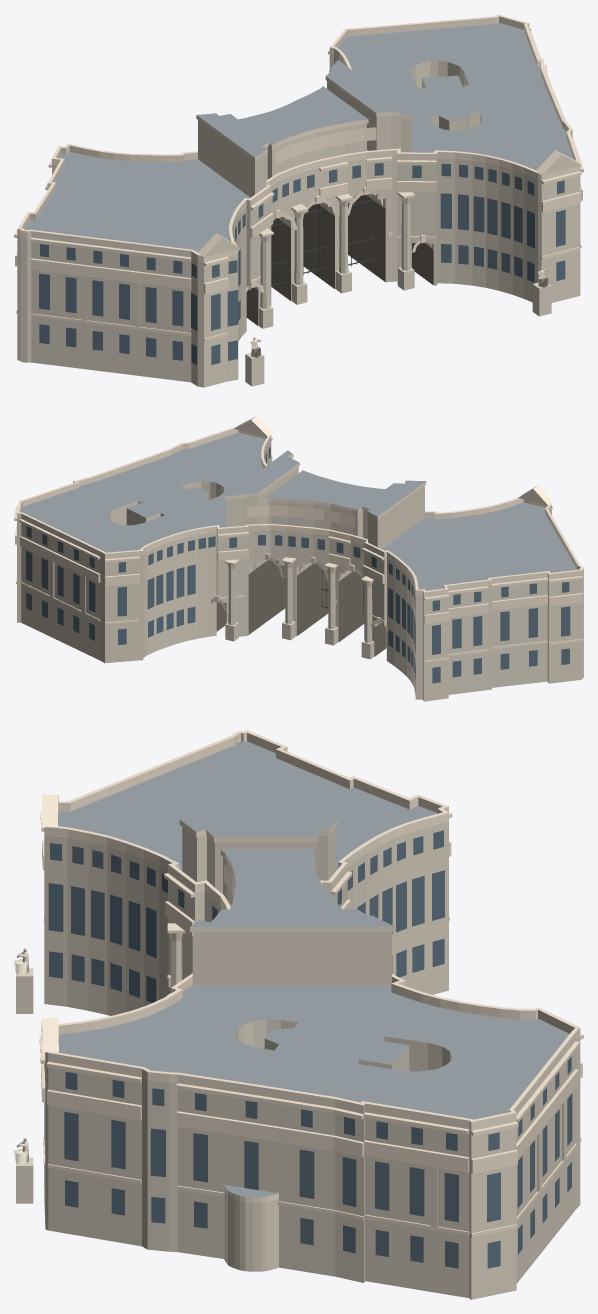
File: london-admiralty-arch.glb
3 views of the same model, one above another, from view 1: azimuth 30°, elevation 25°; view 2: azimuth 150°, elevation 25°; view 3: azimuth 270°, elevation 25° (orthographic). The views are drawn at different scales.
Visible parts, largest first — view 1: Admiralty Arch; view 2: Admiralty Arch; view 3: Admiralty Arch.
Boxes of the visible parts, x1,y1,x2,y2 form: Admiralty Arch: (14,14,583,387); Admiralty Arch: (14,416,583,701); Admiralty Arch: (14,730,583,1299).
Bounding box in the file's own units: 96.91 × 26.1 × 59.03.
